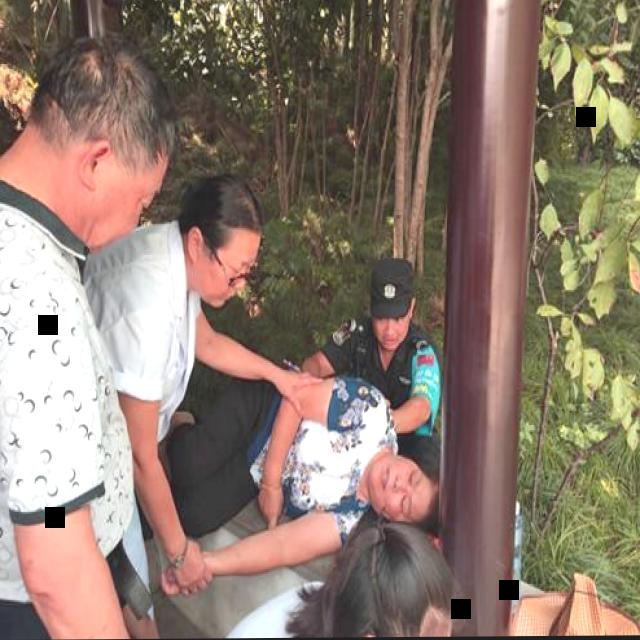Fall-Detected: (252, 333, 444, 526)
